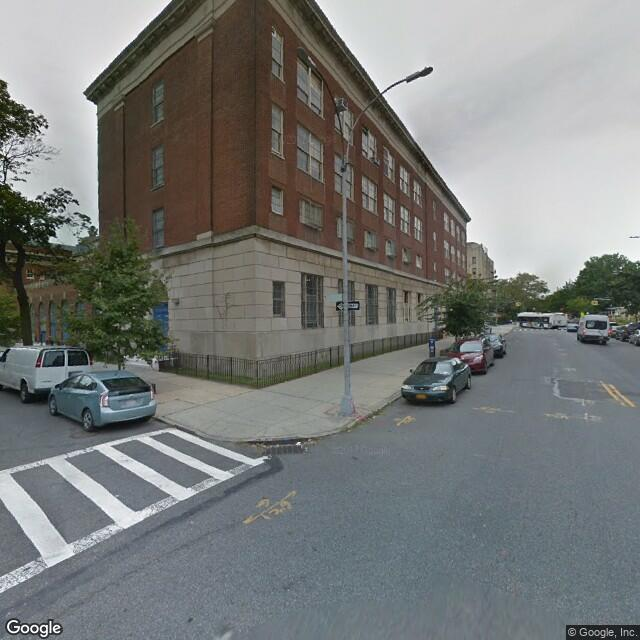litter: (295, 440, 303, 446)
